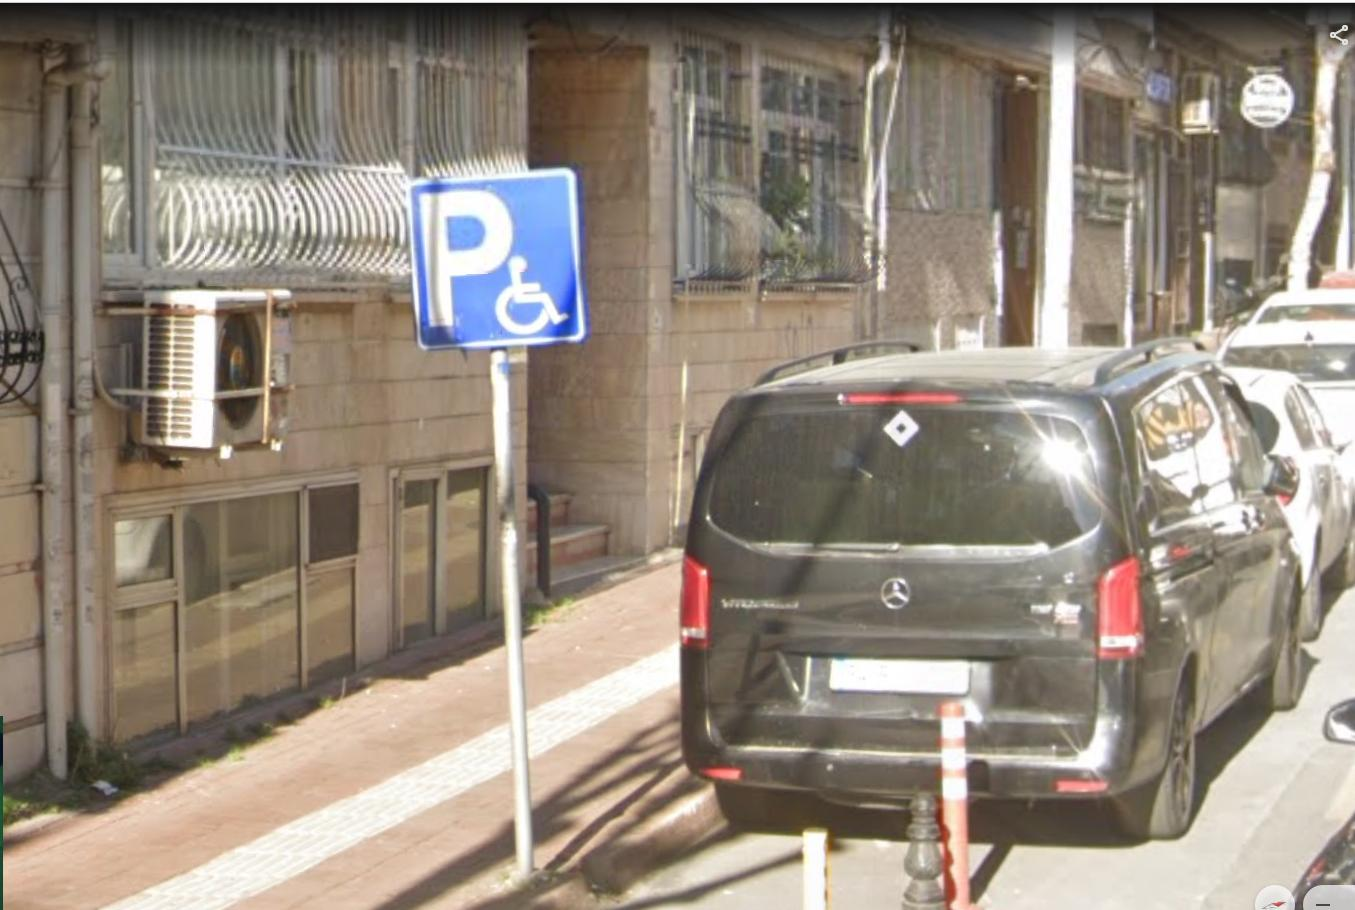disabledpark: (414, 181, 572, 333)
